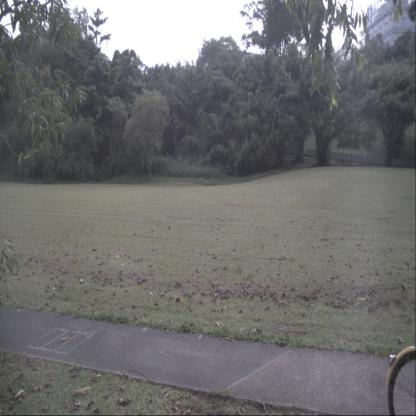vehicle-bicycle: (384, 343, 416, 416)
